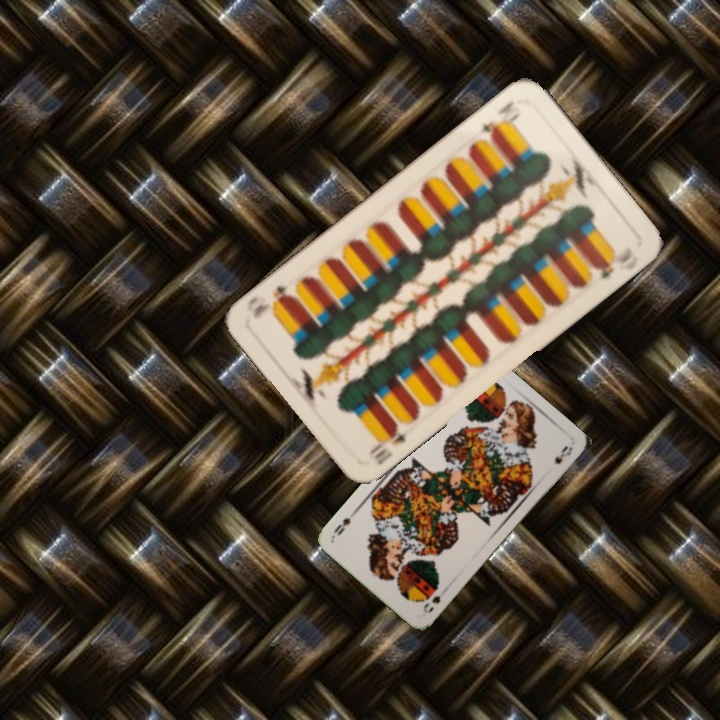E10: (365, 420, 412, 468), (476, 97, 523, 143)
SO: (419, 592, 443, 616)
